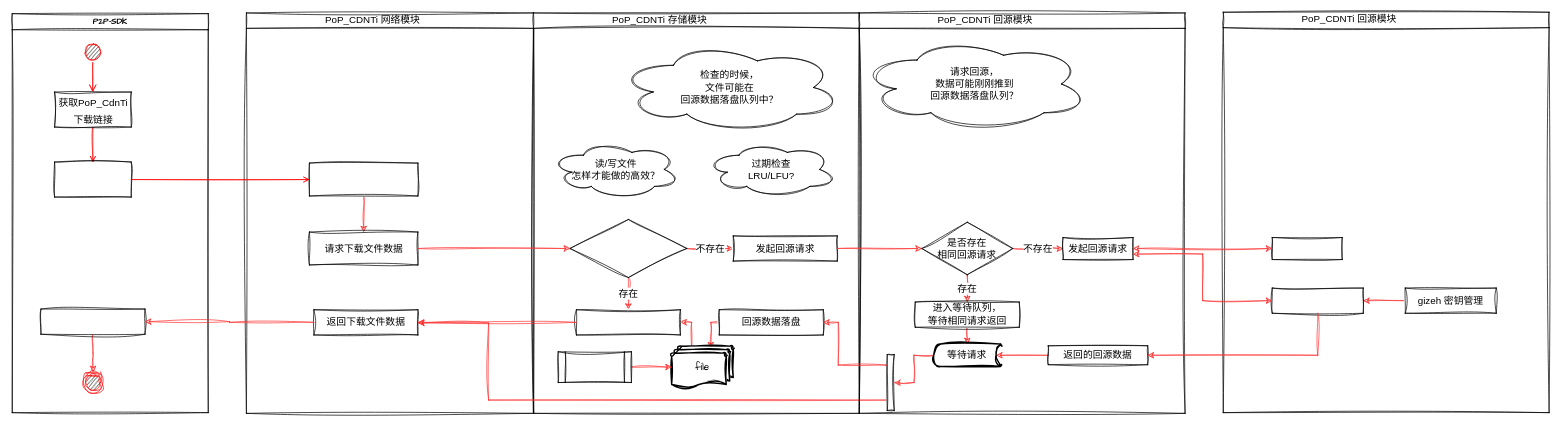
Some shapes in this 1562 by 426 pixel diagram are drawn without their labels. The centre of each missing label's shape, as x and y in pixels:
Issue分配回源IDC: the point at 1307,248
Khafre加密回源数据: the point at 1317,300
向PoP_CdnTi发起 下载请求: the point at 92,179
检查 下载数据 是否存在: the point at 628,248
解析下载请求， 获得待下载文件信息: the point at 363,179
读取下载内容: the point at 628,322
过期检查: the point at 594,367
返回请求数据: the point at 92,321
